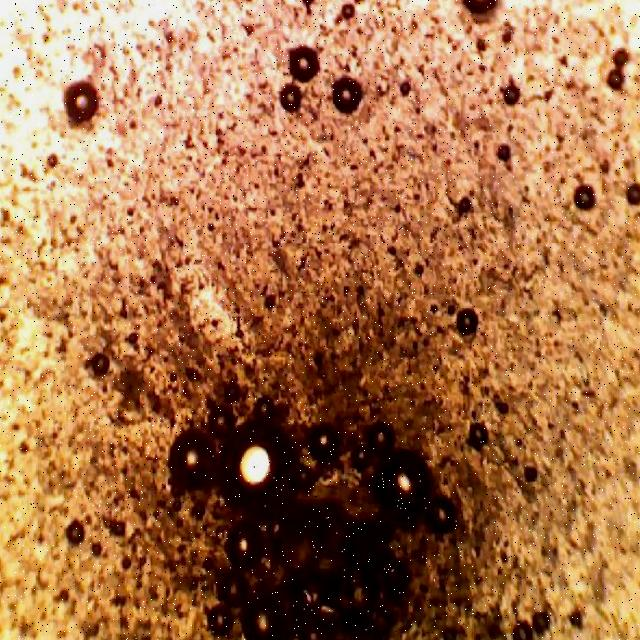microbeads: (56, 78, 100, 130), (329, 74, 367, 118), (286, 46, 322, 82), (456, 0, 502, 22), (278, 82, 304, 116), (456, 304, 480, 338), (570, 183, 598, 210)
